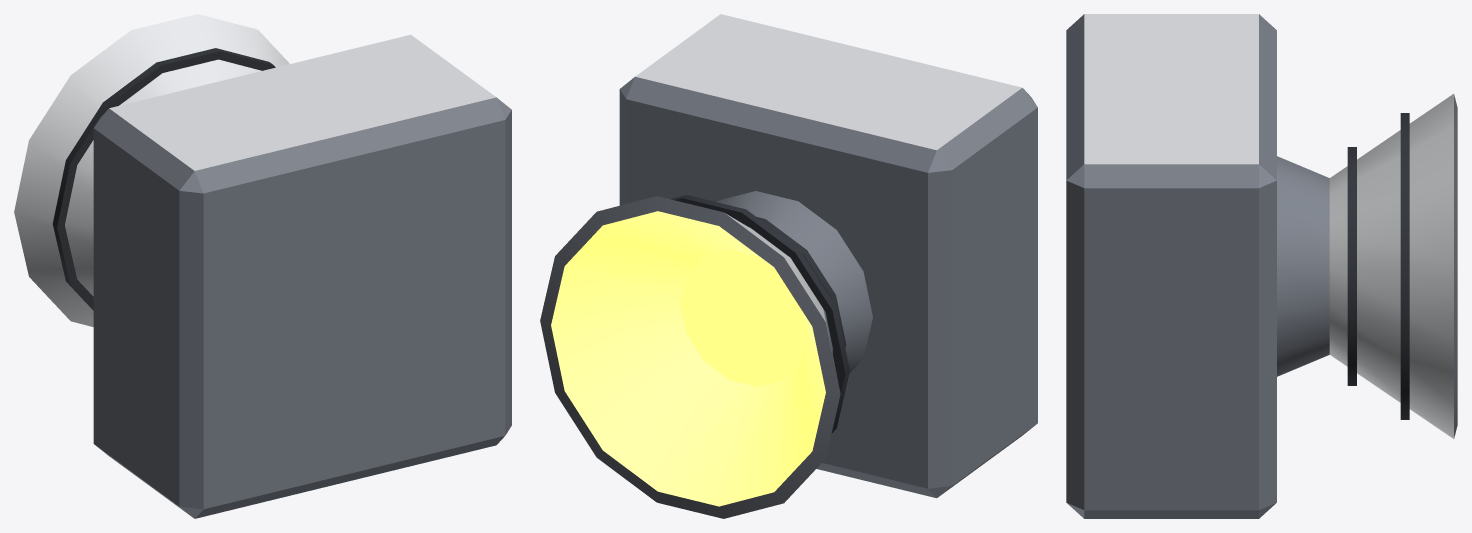
File: R4X_Booster_LOD1.fbx
3 views of the same model, side by side, from view 1: azimuth 30°, elevation 25°; view 2: azimuth 150°, elevation 25°; view 3: azimuth 270°, elevation 25° (orthographic).
Parts seen in each view (by area): view 1: R4X_Booster_LOD1; view 2: R4X_Booster_LOD1; view 3: R4X_Booster_LOD1.
Part boxes in pixels (<box>): R4X_Booster_LOD1: <box>14,14,511,518</box>; R4X_Booster_LOD1: <box>540,14,1037,518</box>; R4X_Booster_LOD1: <box>1066,14,1457,518</box>.
Size of the model in its own units: 0.52 by 0.52 by 0.52.
